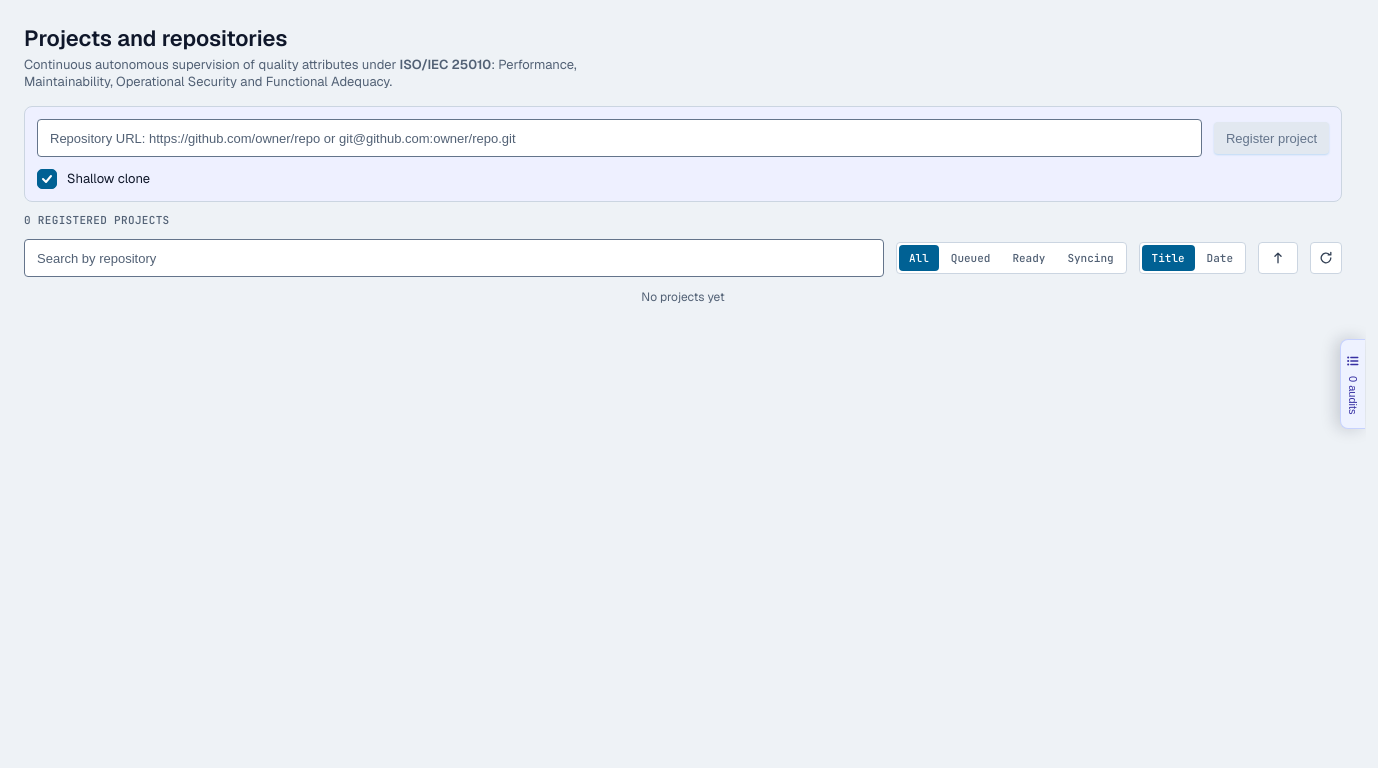
it: HomePage › toasts success in the dock after registering
This screenshot has width=1378, height=768.
In the field with placeholder "Repository URL: https://github.com/owner/repo or git@github.com:owner/repo.git": (620, 138) [37,119,1202,157], type "https://github.com/acme/Demo"
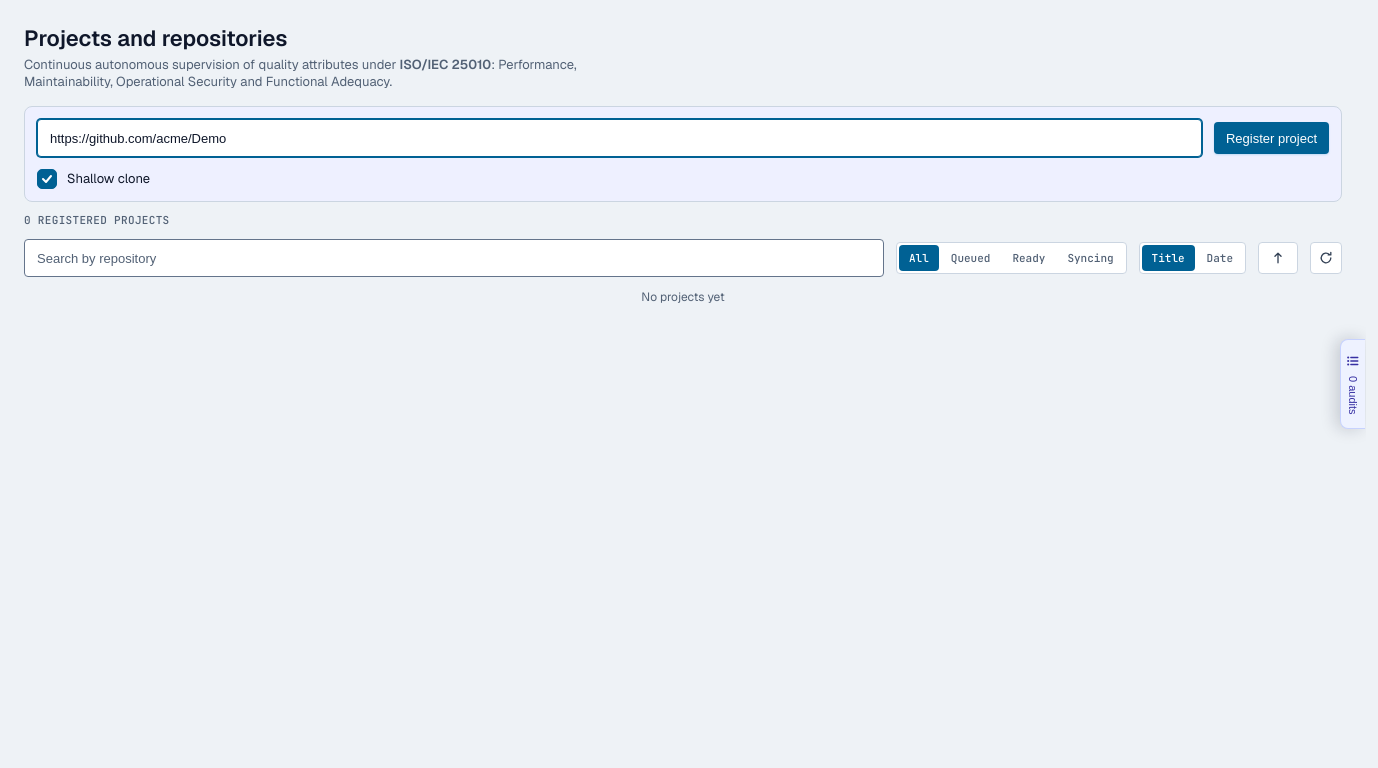
Click the button "Register project": (1272, 138) [1214,122,1329,154]
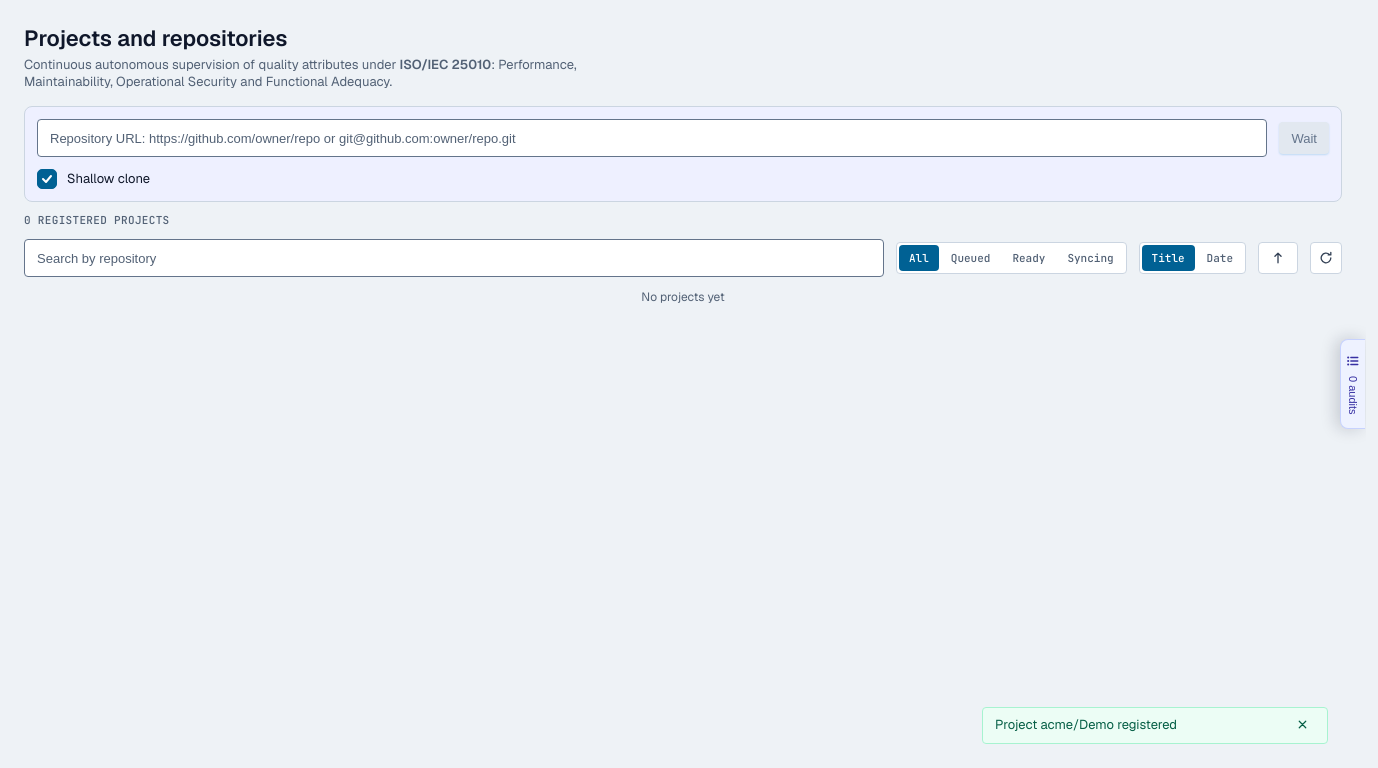
Result: the text "Project acme/Demo registered" is shown at [995,716,1177,733]
